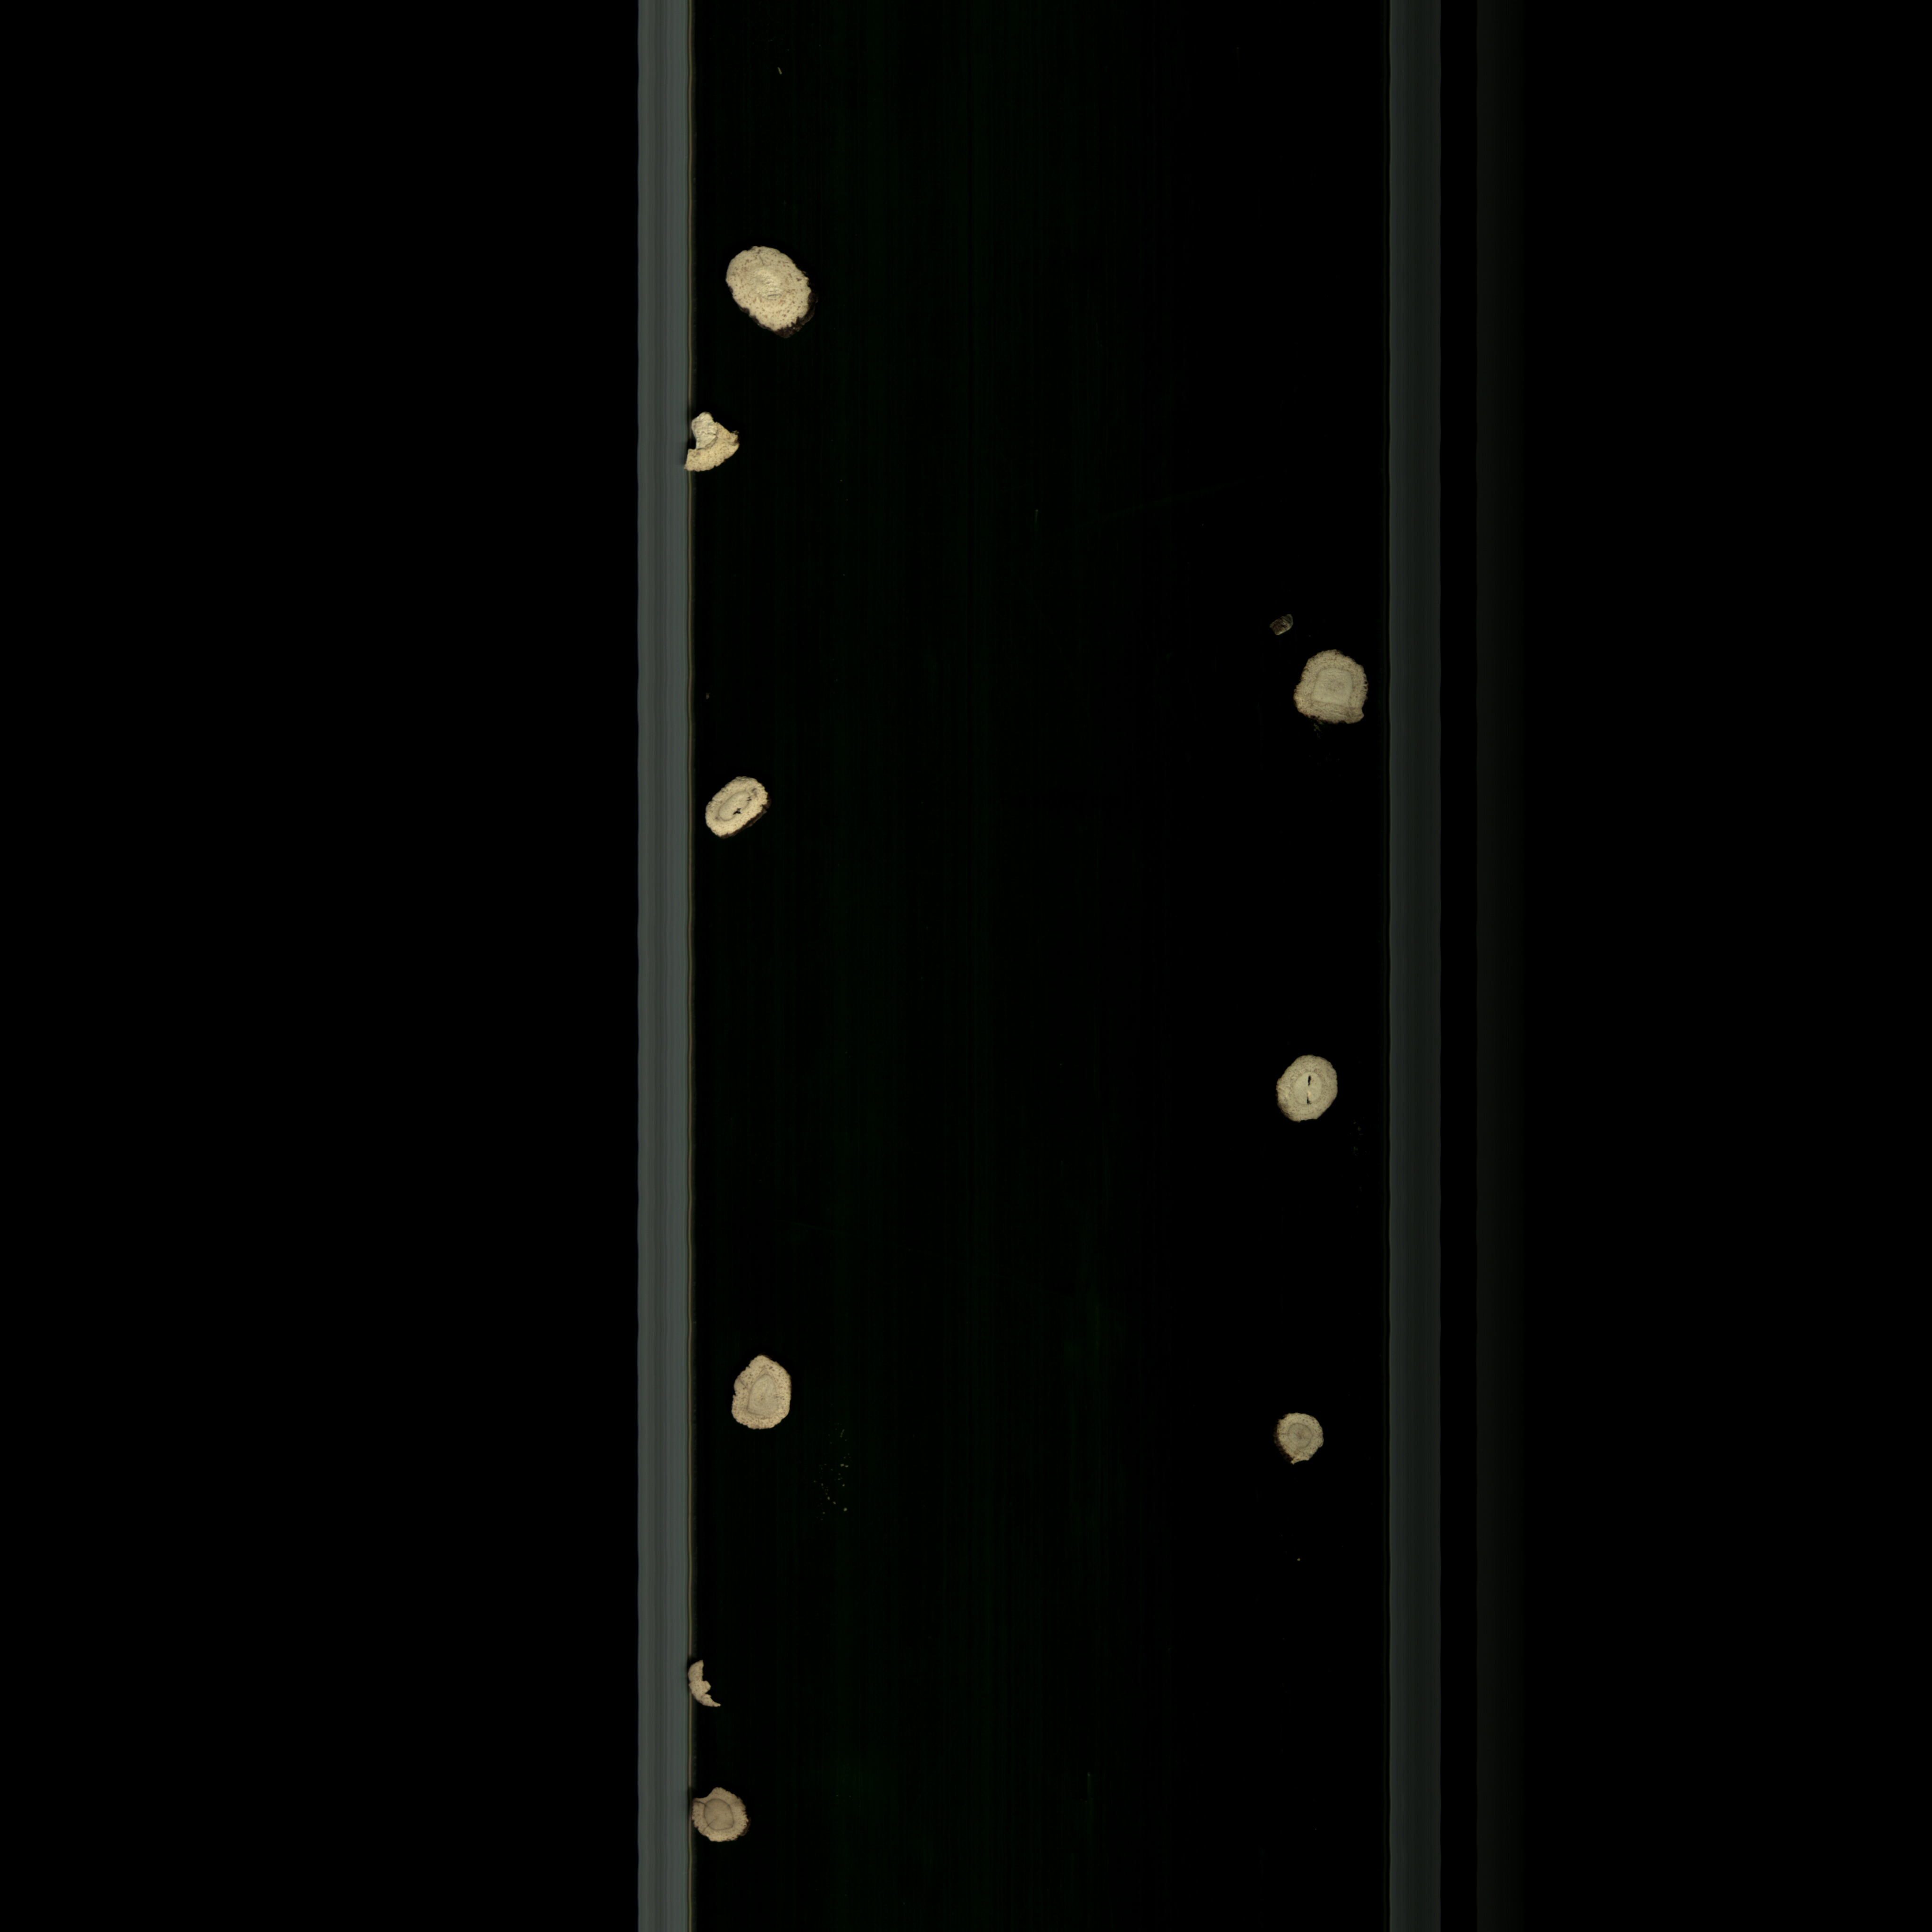debris: (679, 407, 754, 492)
distortion: (720, 239, 821, 343), (1286, 646, 1371, 738)
dreg: (685, 1658, 745, 1732)
hole: (692, 745, 805, 867), (1254, 1040, 1366, 1150)
moldy: (690, 1785, 763, 1856)
